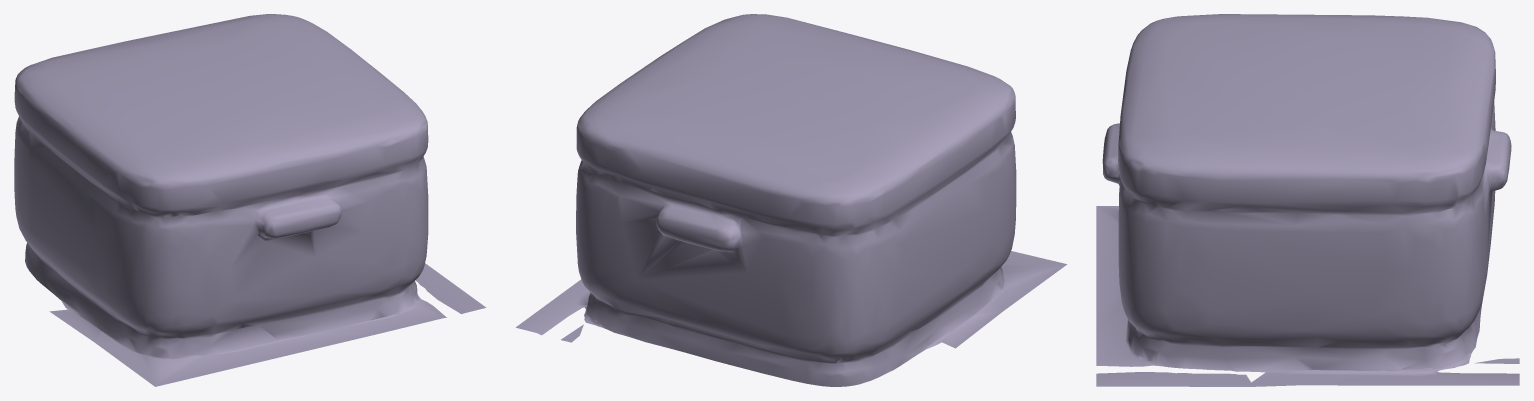
Rendered from show_study_pouf.glb.
3 renders of one model, left to right at view 1: azimuth 30°, elevation 25°; view 2: azimuth 150°, elevation 25°; view 3: azimuth 270°, elevation 25°, orthographic. The views are drawn at different scales.
Bounding box in the file's own units: 0.82 × 0.46 × 0.82.
